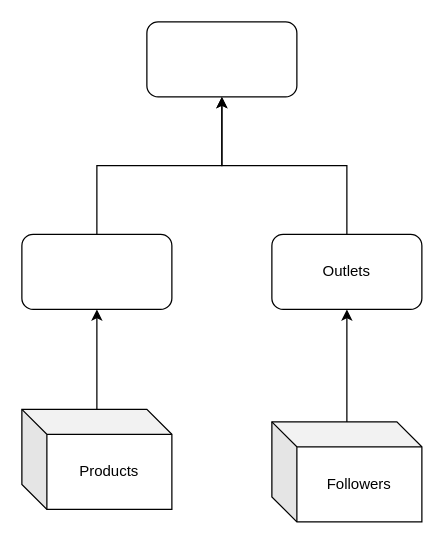
Some shapes in this 444 by 544 pixel diagram are drawn without their labels. The centre of each missing label's shape, as x and y in pixels:
"Product Group" goes at pixel 96 271.
"Schemes" goes at pixel 221 59.
